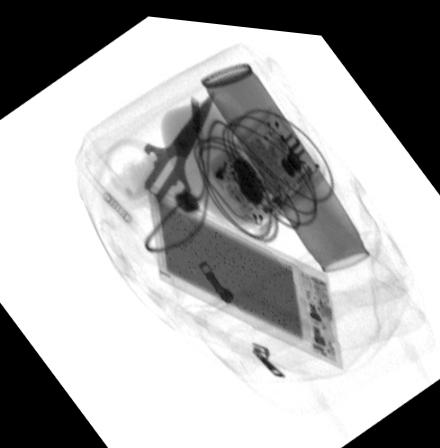Powerbank: (146, 182, 346, 365)
Scissors: (105, 79, 220, 245)
